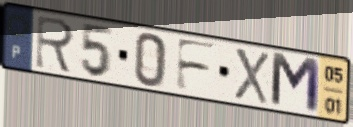0: (132, 30, 169, 89)
5: (78, 21, 115, 79)
F: (173, 36, 220, 94)
M: (268, 50, 322, 117)
R: (33, 13, 77, 76)
X: (232, 45, 270, 107)
